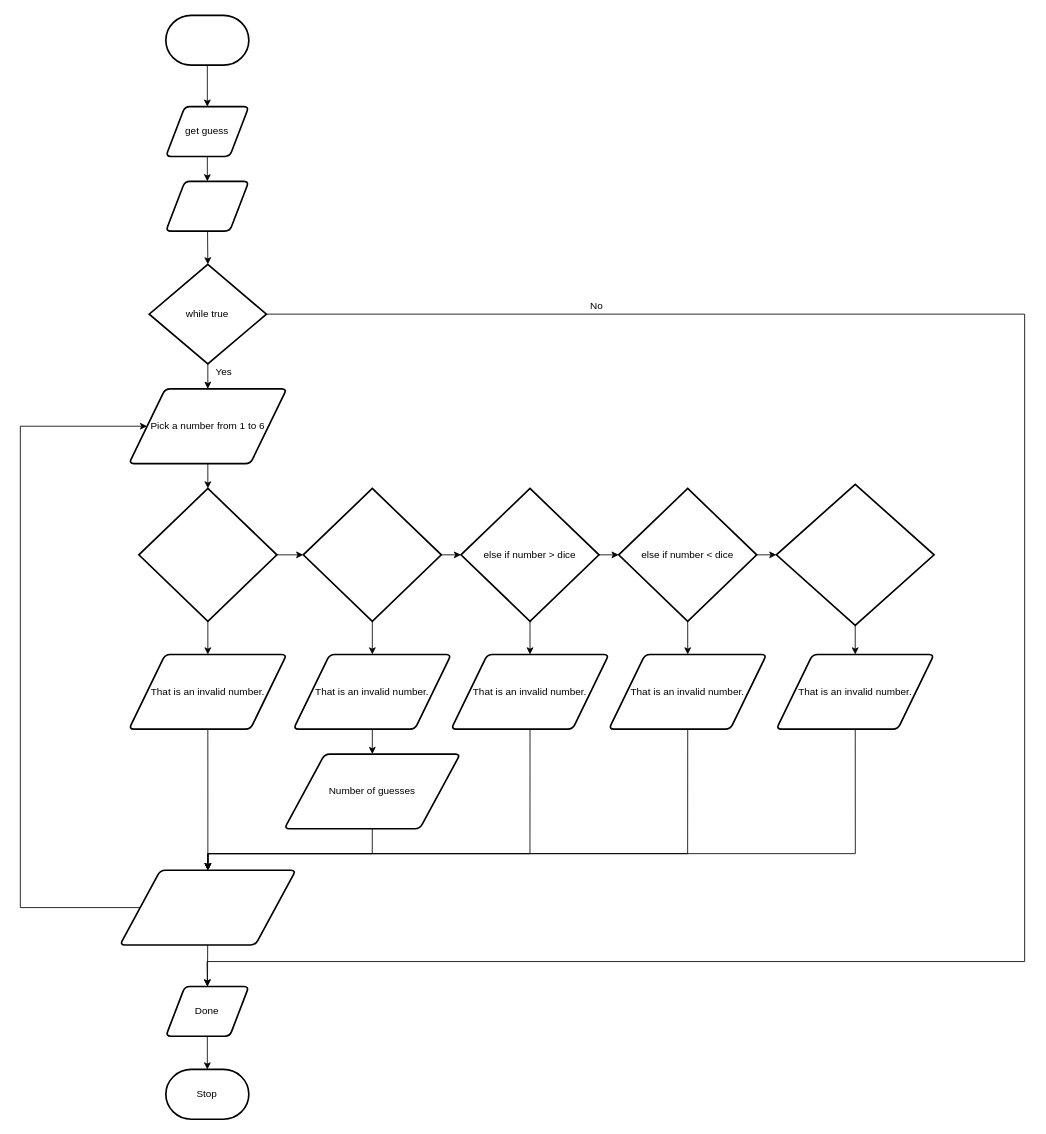
The diagram is 1046 pixels wide and 1134 high, and some of its shapes have lost their labels. Each missing label, with the centre of its shape:
"else if number == dice" goes at [372,554].
"else if number is not a number" goes at [854,554].
"get dice" goes at [207,206].
"guesses =+ 1" goes at [207,907].
"if number > 6 or number < 1" goes at [207,554].
"Start" goes at [207,40].
